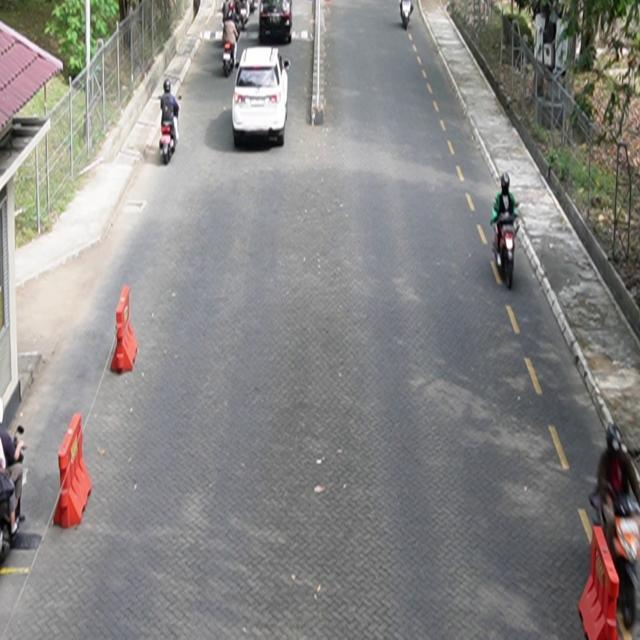car: (233, 46, 292, 149)
